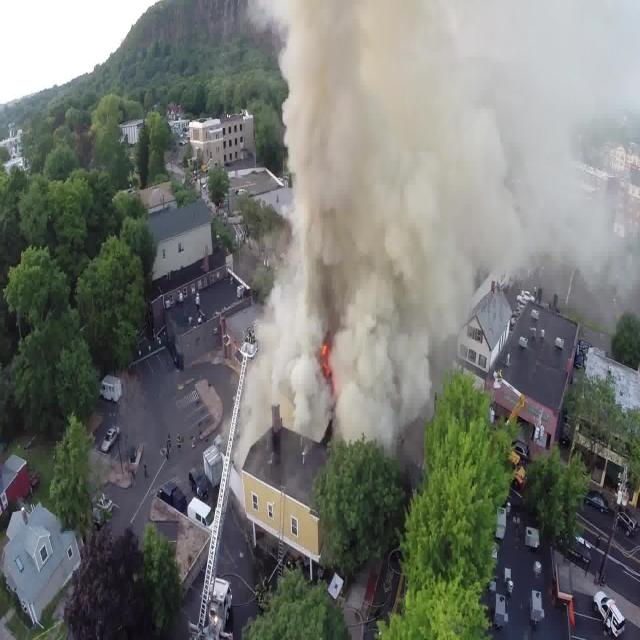Fire: (317, 339, 343, 391)
Smoke: (238, 0, 640, 451)
